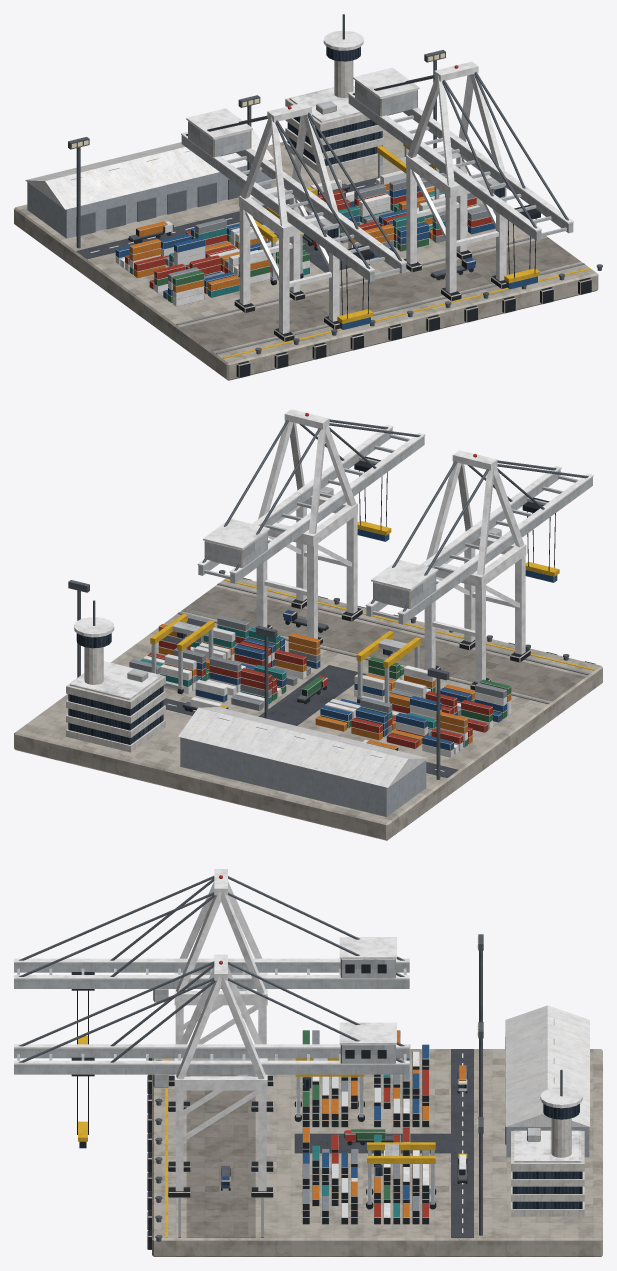
The model's file is port.gltf.
The picture shows the model from 3 angles, top to bottom: view 1: azimuth 30°, elevation 25°; view 2: azimuth 150°, elevation 25°; view 3: azimuth 270°, elevation 25°; orthographic projection. The views are drawn at different scales.
Visible parts, largest first — view 1: Port; view 2: Port; view 3: Port.
Boxes of the visible parts, x1,y1,x2,y2 form: Port: (14, 14, 602, 380); Port: (14, 409, 602, 840); Port: (14, 869, 602, 1256).
Bounding box in the file's own units: 1 × 0.577 × 1.28.
Materials: 27 (20 with a texture image).
